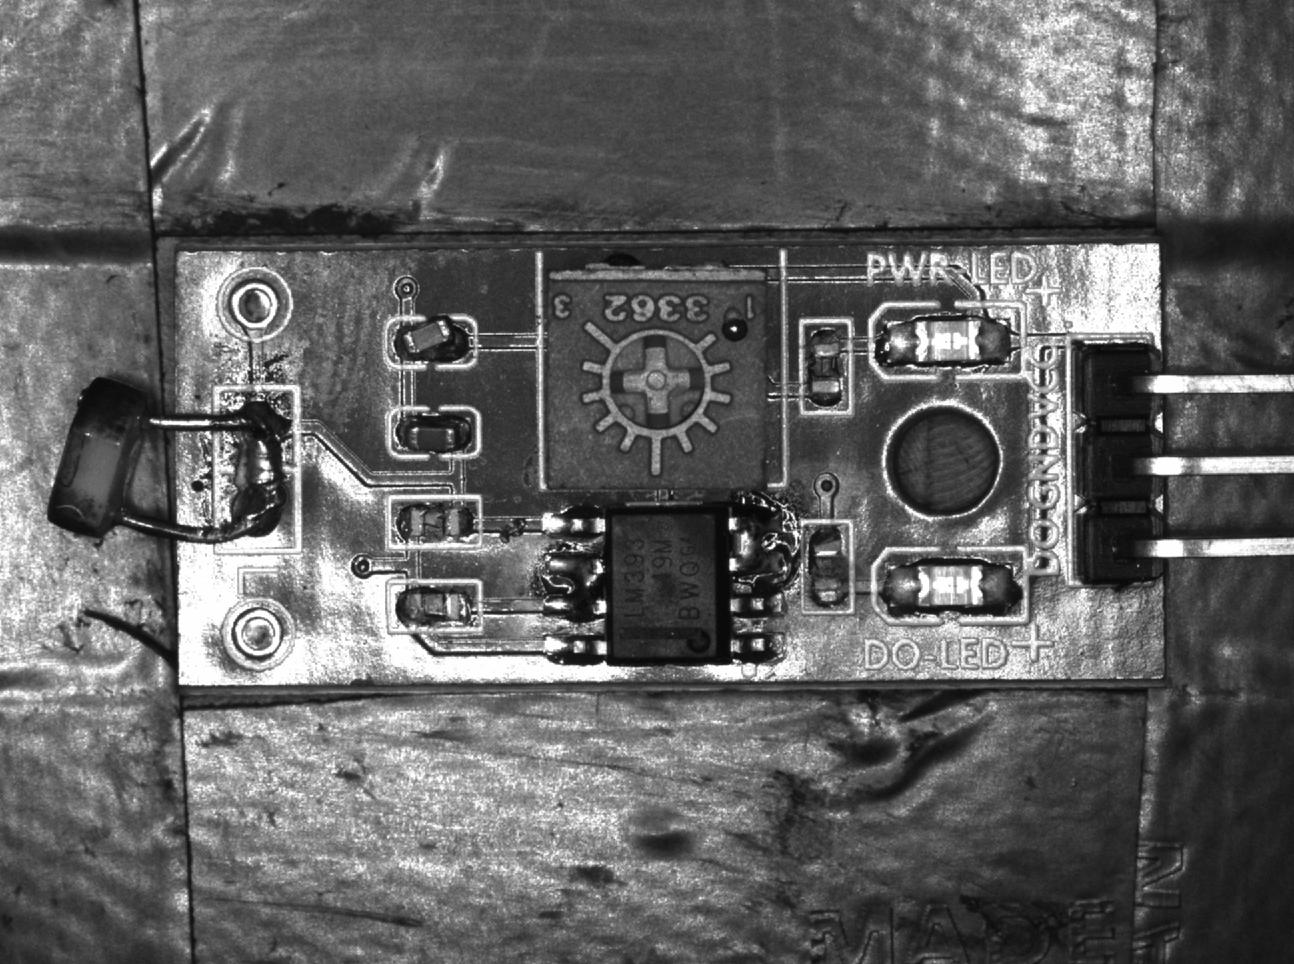bridge: (215, 390, 298, 551), (726, 499, 793, 583), (542, 548, 608, 625)
lifted: (381, 315, 478, 369)
miss: (388, 496, 485, 550), (801, 320, 850, 414), (801, 523, 851, 615), (386, 581, 481, 629)
ok: (391, 410, 484, 459)
